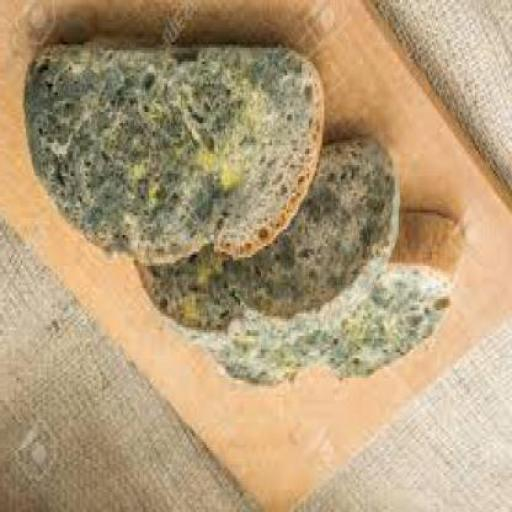biodegradable: (26, 36, 326, 272), (137, 140, 408, 352), (208, 213, 470, 397)
